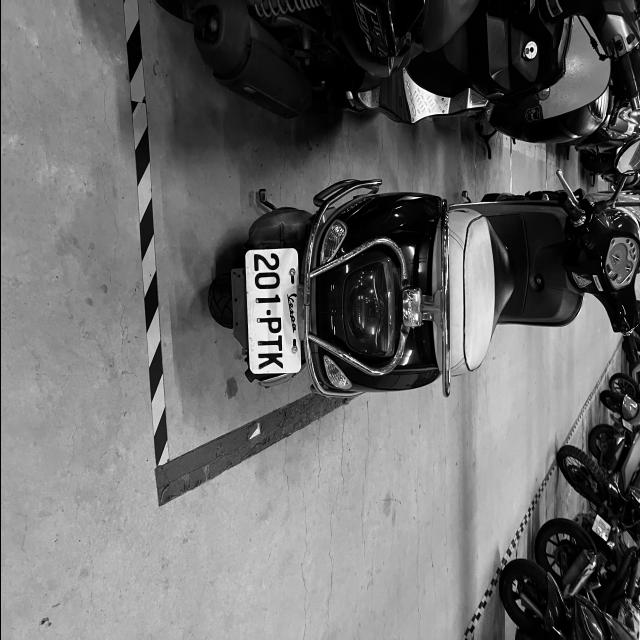-: (264, 310, 272, 316)
0: (254, 271, 282, 291)
1: (253, 294, 280, 308)
2: (252, 252, 280, 272)
K: (255, 352, 282, 371)
P: (254, 316, 282, 334)
T: (256, 334, 282, 352)
plate: (246, 250, 296, 380)
